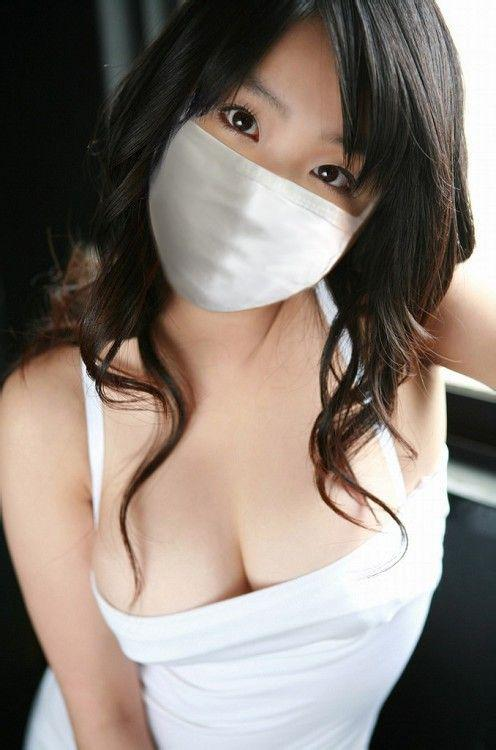OK: (150, 75, 386, 309)
